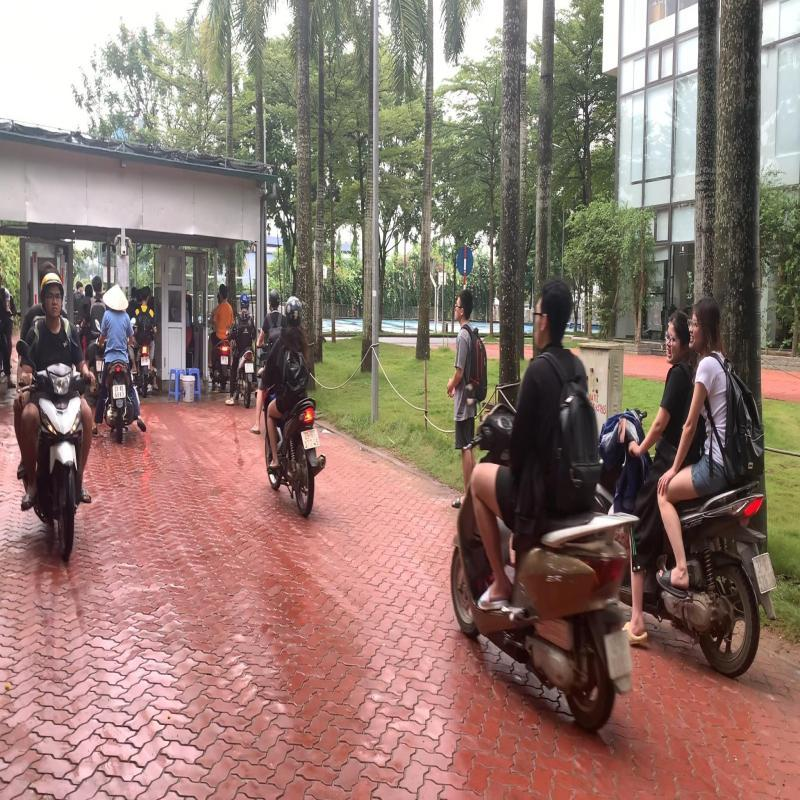nohelmet: (690, 294, 722, 353), (662, 310, 694, 368)
